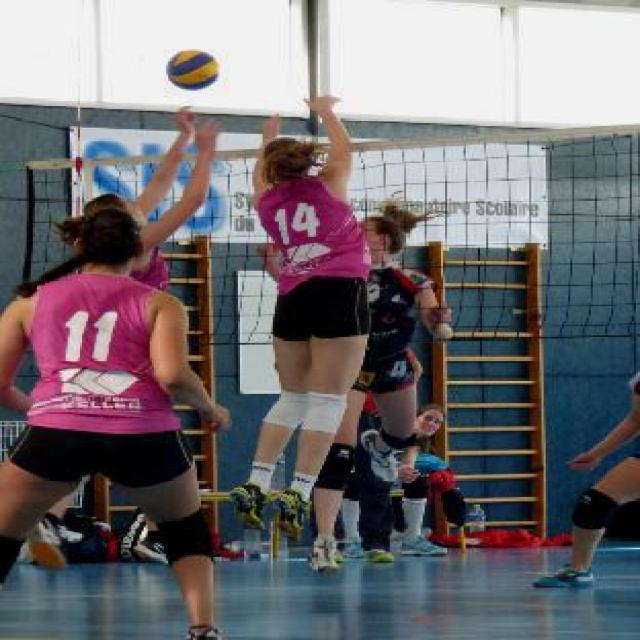volleyball: (166, 50, 218, 90)
